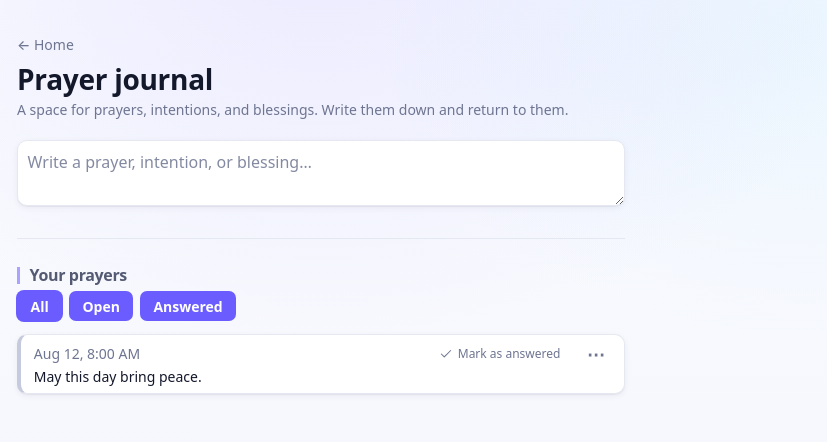
Test: PrayerPage › deleting a prayer removes it from the list
Expected: the text "May this day bring peace." is shown, [34,367,202,386]
Click the button named "prayer actions" at {"x": 596, "y": 354}, box [580,345,611,363]
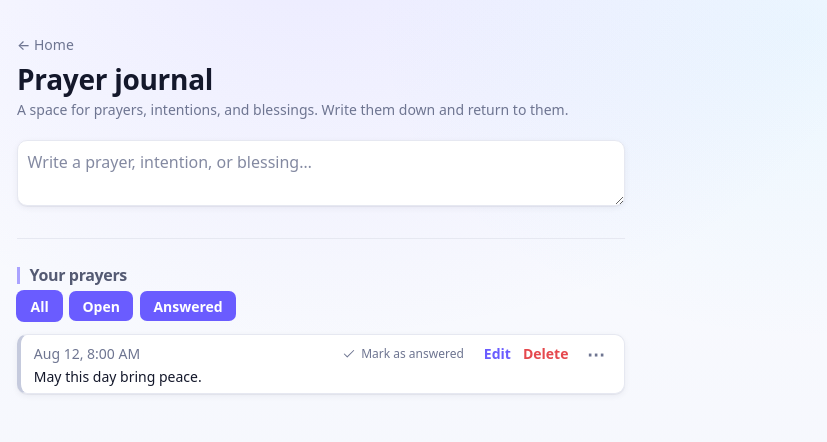
Click the button "Delete" at {"x": 546, "y": 354}, box [523,343,568,364]
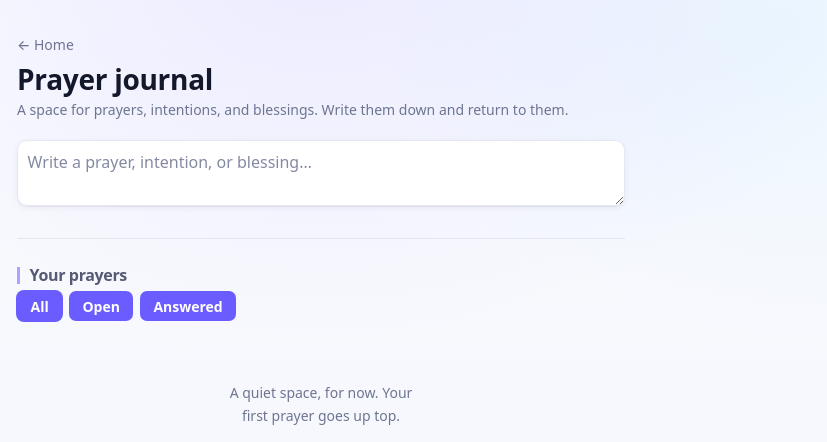
Expected: the text "May this day bring peace." is gone
